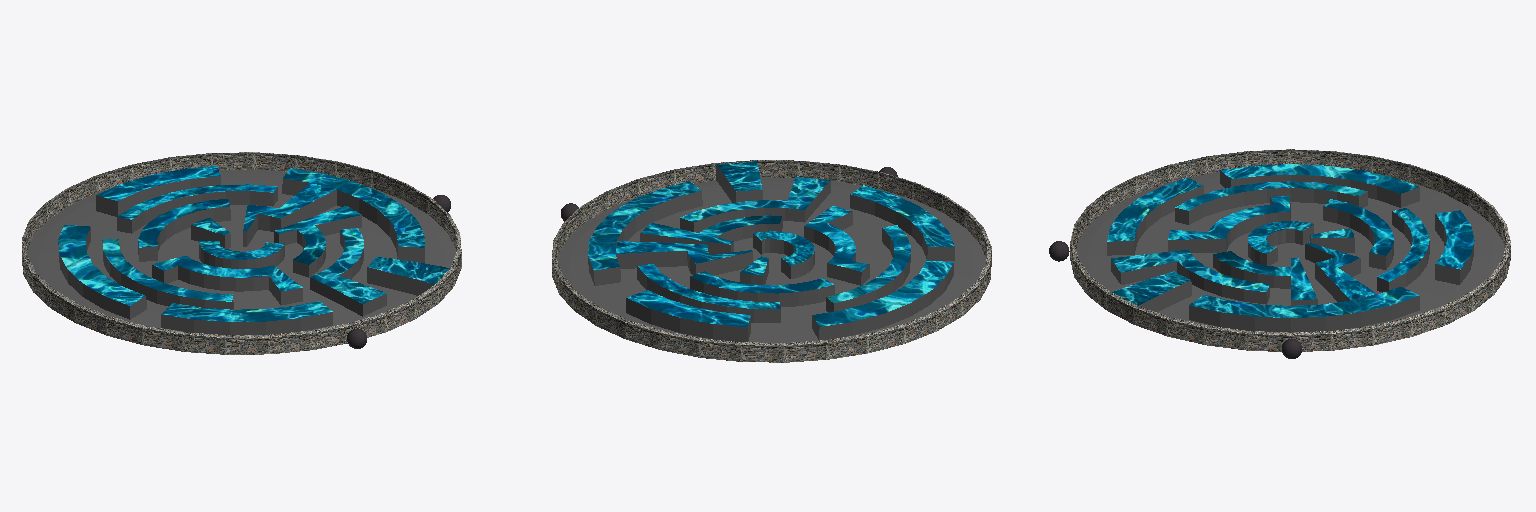
3 renders of one model, left to right at view 1: azimuth 30°, elevation 25°; view 2: azimuth 150°, elevation 25°; view 3: azimuth 270°, elevation 25°, orthographic.
Parts seen in each view (by area): view 1: Sphere; view 2: Sphere; view 3: Sphere.
Boxes of the visible parts, <box> form: Sphere: <box>22,152,461,354</box>; Sphere: <box>552,160,991,362</box>; Sphere: <box>1049,149,1510,358</box>.
Size of the model in its own units: 10.99 by 0.7462 by 10.99.
Materials: 6 (2 with a texture image).